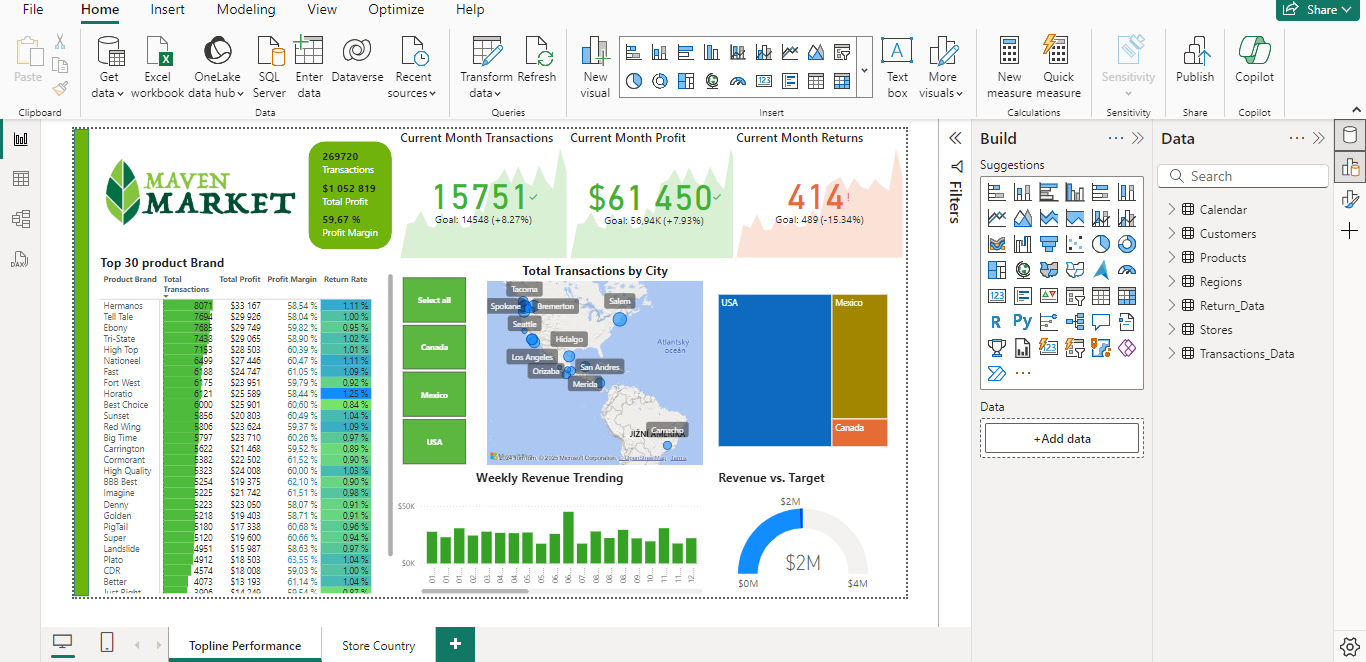

What the dashboard file says about the page in this screenshot:
{"tool":"powerbi","page":{"name":"Topline Performance","canvas":[1280,720],"ordinal":0},"visuals":[{"type":"image","box":[35.8,0,316.4,193.1],"z":0},{"type":"shape","box":[352.2,10.7,144.8,182.3],"z":1000},{"type":"shape","box":[0,0,23.2,718.7],"z":2000},{"type":"pivotTable","title":"Top 30 product Brand","fields":{"Rows":["Products.product_brand"],"Values":["Transactions_Data.Total Transactions","Transactions_Data.Total Profit","Transactions_Data.Profit Margin","Transactions_Data.Return Rate"]},"box":[35.8,193.1,461.2,527.4],"z":3000},{"type":"kpi","title":"Current Month Transactions ","fields":{"Indicator":["Transactions_Data.Total Transactions"],"TrendLine":["Calendar.Start of Month"],"Goal":["Transactions_Data.Last Month Transaction"]},"box":[497,0,266.4,203.8],"z":4000},{"type":"kpi","title":"Current Month Profit ","fields":{"Indicator":["Transactions_Data.Total Profit"],"TrendLine":["Calendar.Start of Month"],"Goal":["Transactions_Data.Last Month Profit"]},"box":[758.9,0,267.8,204.5],"z":5000},{"type":"kpi","title":"Current Month Returns ","fields":{"Indicator":["Return_Data.Total Returns"],"TrendLine":["Calendar.Start of Month"],"Goal":["Return_Data.Last Month Returns"]},"box":[1013.8,0,266.4,203],"z":6000},{"type":"multiRowCard","fields":{"Values":["Transactions_Data.Total Transactions","Transactions_Data.Total Profit","Transactions_Data.Profit Margin"]},"box":[377.2,26.8,143,166.3],"z":7000},{"type":"map","title":"Total Transactions by City","fields":{"Category":["Stores.store_city"],"Size":["Transactions_Data.Total Transactions"]},"box":[630.4,205.1,341.8,317.7],"z":8000},{"type":"slicer","fields":{"Values":["Stores.store_country"]},"box":[479.5,221.8,146.9,301],"z":9000},{"type":"treemap","title":"Total Transactions by Store Country","fields":{"Values":["Transactions_Data.Total Transactions"],"Group":["Stores.store_country"]},"box":[986.1,249.4,270.9,244.3],"z":10000},{"type":"columnChart","title":"Weekly Revenue Trending","fields":{"Y":["Products.Total Revenue"],"Category":["Calendar.Start of Week"]},"box":[492.5,522.7,479.5,197.3],"z":11000},{"type":"gauge","title":"Revenue vs. Target","fields":{"Y":["Products.Total Revenue"],"TargetValue":["Products.Revenue Target"]},"box":[986,523,271,197],"z":11001}]}

Visuals, with their boxes on the page's 1280x720 design canvas (x1, y1, x2, y2). These are canvas units, not pixel positions in the 1366x662 screenshot, which may show the page scaled, cropped or inside an application window:
image: region(36, 0, 352, 193)
shape: region(352, 11, 497, 193)
shape: region(0, 0, 23, 719)
"Top 30 product Brand" pivotTable: region(36, 193, 497, 720)
"Current Month Transactions " kpi: region(497, 0, 763, 204)
"Current Month Profit " kpi: region(759, 0, 1027, 204)
"Current Month Returns " kpi: region(1014, 0, 1280, 203)
multiRowCard - Transactions_Data.Total Transactions x Transactions_Data.Total Profit: region(377, 27, 520, 193)
"Total Transactions by City" map: region(630, 205, 972, 523)
slicer - Stores.store_country: region(480, 222, 626, 523)
"Total Transactions by Store Country" treemap: region(986, 249, 1257, 494)
"Weekly Revenue Trending" columnChart: region(492, 523, 972, 720)
"Revenue vs. Target" gauge: region(986, 523, 1257, 720)
